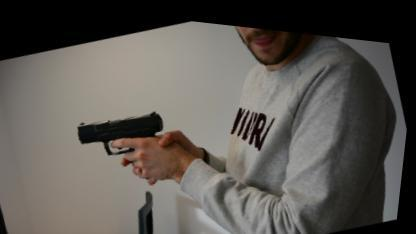pistol: (73, 93, 173, 166)
